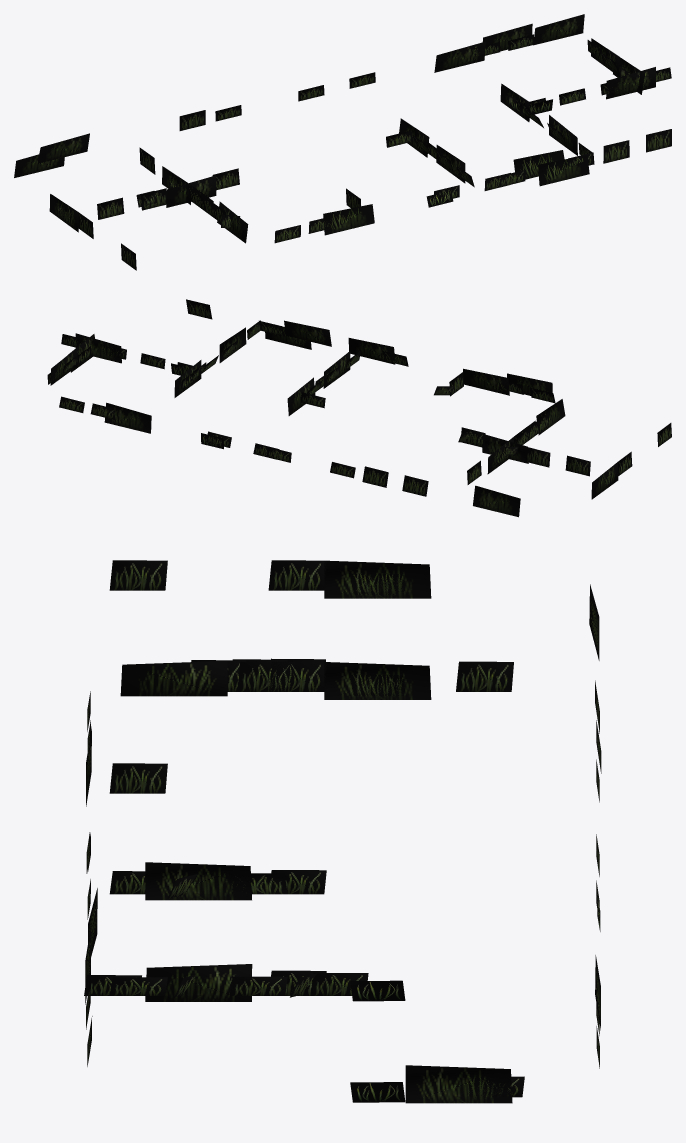
File: Sidewalk_Large_Overgrowth_Light.fbx
The picture shows the model from 3 angles, top to bottom: view 1: azimuth 30°, elevation 25°; view 2: azimuth 150°, elevation 25°; view 3: azimuth 270°, elevation 25°; orthographic projection. The views are drawn at different scales.
Parts seen in each view (by area): view 1: Sidewalk_Large_Overgrowth_Light; view 2: Sidewalk_Large_Overgrowth_Light; view 3: Sidewalk_Large_Overgrowth_Light.
Boxes of the visible parts, bbox=[...] form: Sidewalk_Large_Overgrowth_Light: bbox=[14, 14, 671, 270]; Sidewalk_Large_Overgrowth_Light: bbox=[47, 299, 671, 517]; Sidewalk_Large_Overgrowth_Light: bbox=[84, 560, 601, 1103].
Bounding box in the file's own units: 884 × 41.99 × 359.
